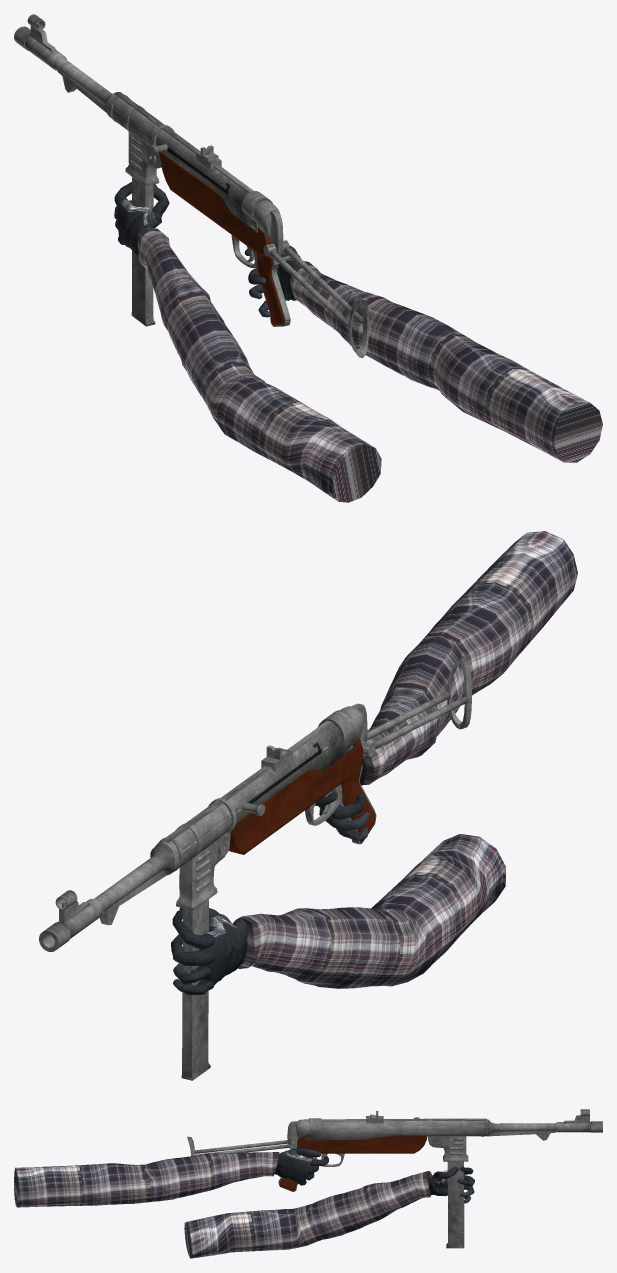
Rendered from mp40_adsfire.fbx.
3 views of the same model, one above another, from view 1: azimuth 30°, elevation 25°; view 2: azimuth 150°, elevation 25°; view 3: azimuth 270°, elevation 25° (orthographic). The views are drawn at different scales.
Parts seen in each view (by area): view 1: larm, rarm, mp40_reciever, mp40_wood, mp40_clip, mp40_barrel, mp40_stockwire, lhand, mp40_pistolgripwood, mp40_stock; view 2: larm, rarm, mp40_reciever, mp40_wood, mp40_clip, mp40_barrel, lhand, mp40_stockwire, mp40_stock, mp40_pistolgripwood, lmfinger; view 3: rarm, larm, mp40_reciever, mp40_wood, mp40_clip, mp40_barrel, rhand, mp40_stockwire, lhand, mp40_battlemount, mp40_frontsight.
Part boxes in pixels (left/top/right/bottom): larm: left=137, top=228, right=381, bottom=502; rarm: left=290, top=261, right=602, bottom=462; mp40_reciever: left=107, top=92, right=279, bottom=236; mp40_wood: left=159, top=152, right=270, bottom=257; mp40_clip: left=131, top=177, right=155, bottom=326; mp40_barrel: left=14, top=26, right=112, bottom=112; mp40_stockwire: left=269, top=246, right=363, bottom=328; lhand: left=117, top=199, right=161, bottom=255; mp40_pistolgripwood: left=256, top=253, right=284, bottom=325; mp40_stock: left=348, top=298, right=369, bottom=358; larm: left=232, top=834, right=505, bottom=988; rarm: left=362, top=531, right=577, bottom=785; mp40_reciever: left=157, top=706, right=364, bottom=910; mp40_wood: left=228, top=739, right=362, bottom=854; mp40_clip: left=181, top=899, right=210, bottom=1080; mp40_barrel: left=39, top=842, right=174, bottom=951; lhand: left=199, top=914, right=247, bottom=984; mp40_stockwire: left=367, top=692, right=468, bottom=749; mp40_stock: left=447, top=656, right=471, bottom=729; mp40_pistolgripwood: left=341, top=765, right=374, bottom=841; lmfinger: left=171, top=934, right=215, bottom=965; rarm: left=14, top=1152, right=279, bottom=1207; larm: left=184, top=1171, right=430, bottom=1258; mp40_reciever: left=296, top=1118, right=488, bottom=1161; mp40_wood: left=297, top=1135, right=426, bottom=1153; mp40_clip: left=446, top=1161, right=464, bottom=1248; mp40_barrel: left=488, top=1120, right=602, bottom=1135; rhand: left=274, top=1148, right=313, bottom=1184; mp40_stockwire: left=195, top=1140, right=289, bottom=1155; lhand: left=427, top=1169, right=464, bottom=1196; mp40_battlemount: left=488, top=1131, right=556, bottom=1140; mp40_frontsight: left=564, top=1109, right=589, bottom=1123.
Size of the model in its own units: 11.12 by 16.21 by 58.08.
Materials: 3 (3 with a texture image).
